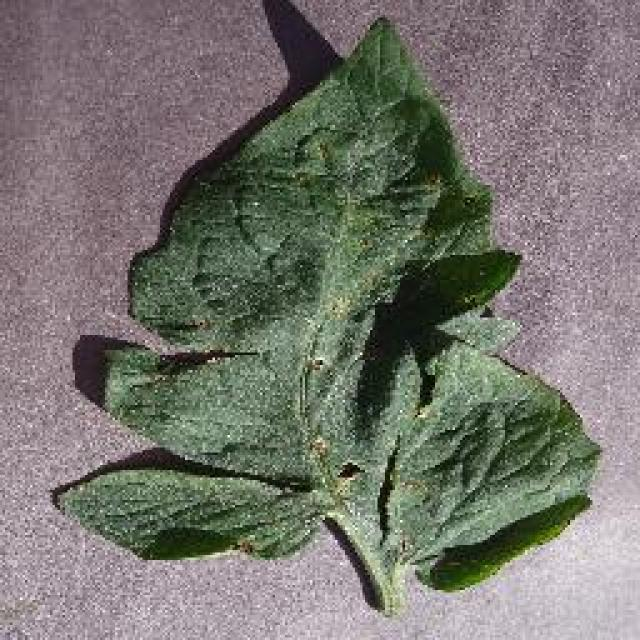Tom_Target_Spot: (296, 238, 392, 382), (297, 421, 375, 509)
